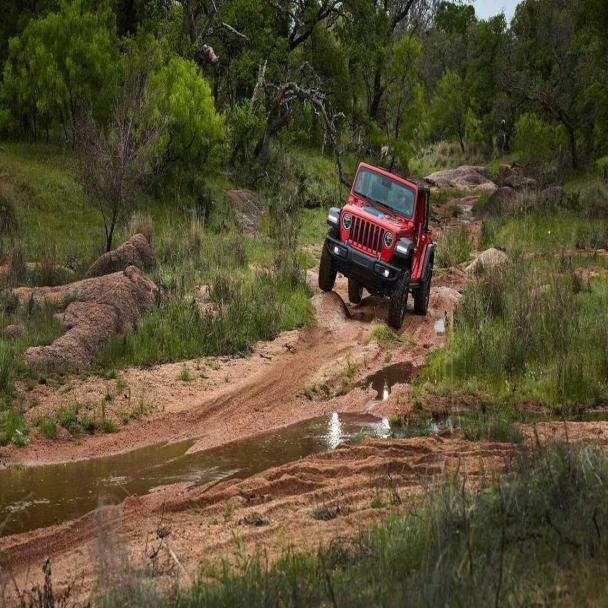Mobil: (318, 159, 432, 328)
